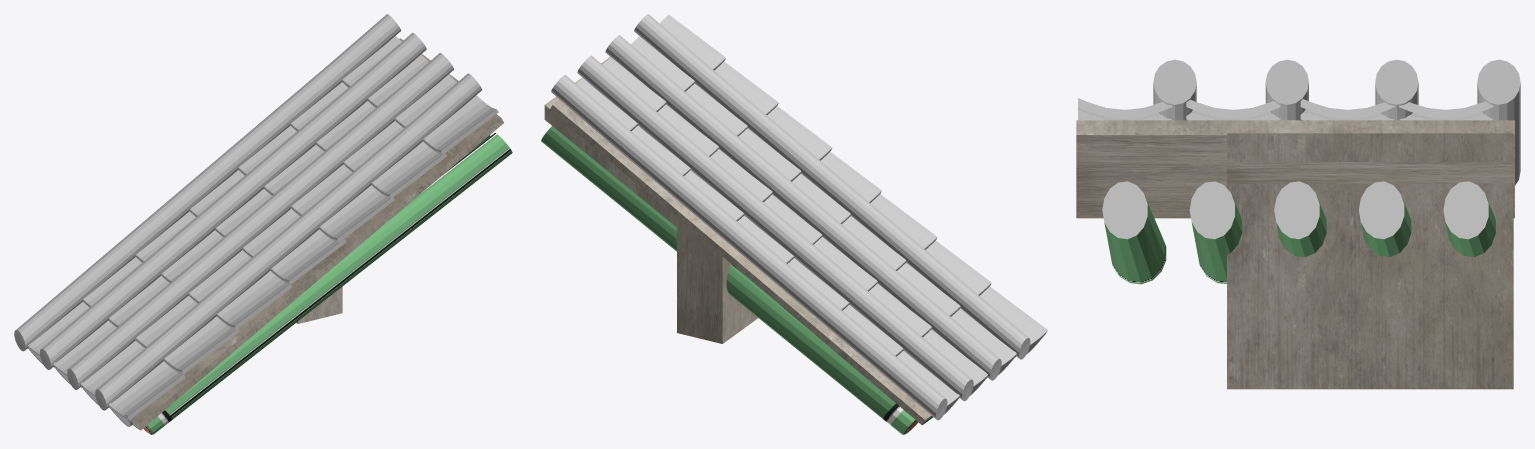
Rendered from SM_Roof_33.fbx.
The picture shows the model from 3 angles, left to right: view 1: azimuth 30°, elevation 25°; view 2: azimuth 150°, elevation 25°; view 3: azimuth 270°, elevation 25°; orthographic projection. The views are drawn at different scales.
Parts seen in each view (by area): view 1: SM_Roof_33; view 2: SM_Roof_33; view 3: SM_Roof_33.
Boxes of the visible parts, bbox=[...] form: SM_Roof_33: bbox=[14, 14, 512, 434]; SM_Roof_33: bbox=[541, 14, 1047, 434]; SM_Roof_33: bbox=[1076, 59, 1520, 389].
Bounding box in the file's own units: 314 × 152 × 205.
